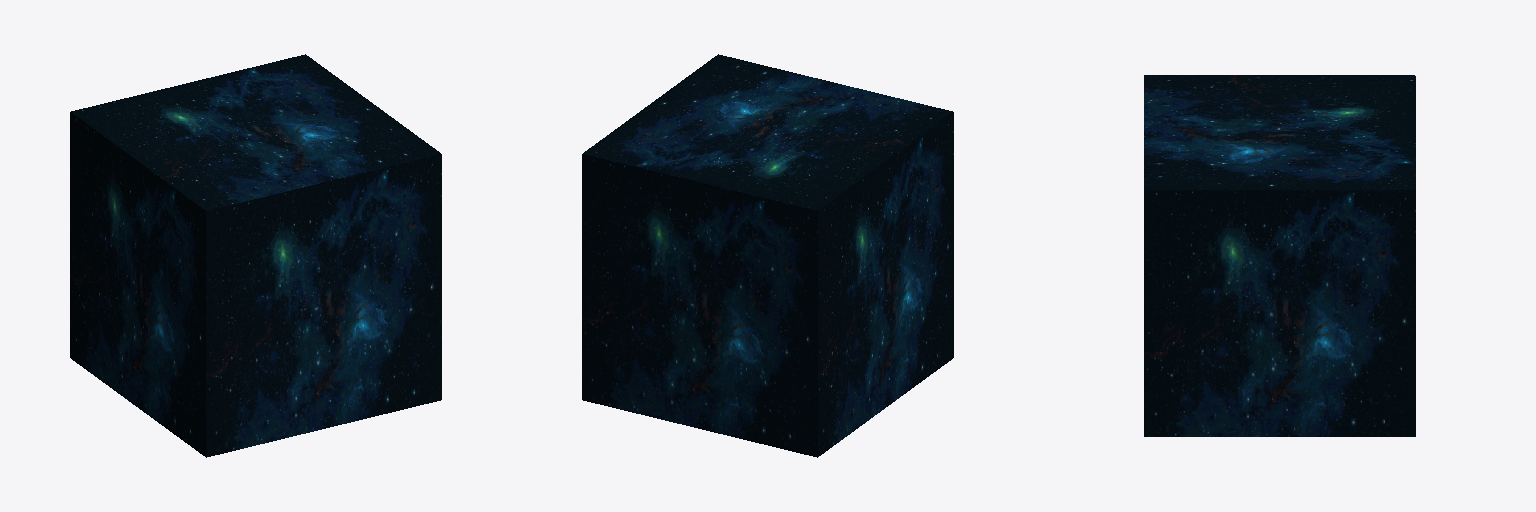
3 renders of one model, left to right at view 1: azimuth 30°, elevation 25°; view 2: azimuth 150°, elevation 25°; view 3: azimuth 270°, elevation 25°, orthographic.
Parts seen in each view (by area): view 1: cube; view 2: cube; view 3: cube.
Boxes of the visible parts, x1,y1,x2,y2 form: cube: [70, 54, 441, 457]; cube: [582, 54, 953, 457]; cube: [1144, 75, 1415, 436].
Bounding box in the file's own units: 1.12 × 1.12 × 1.12.
Materials: 1 (1 with a texture image).